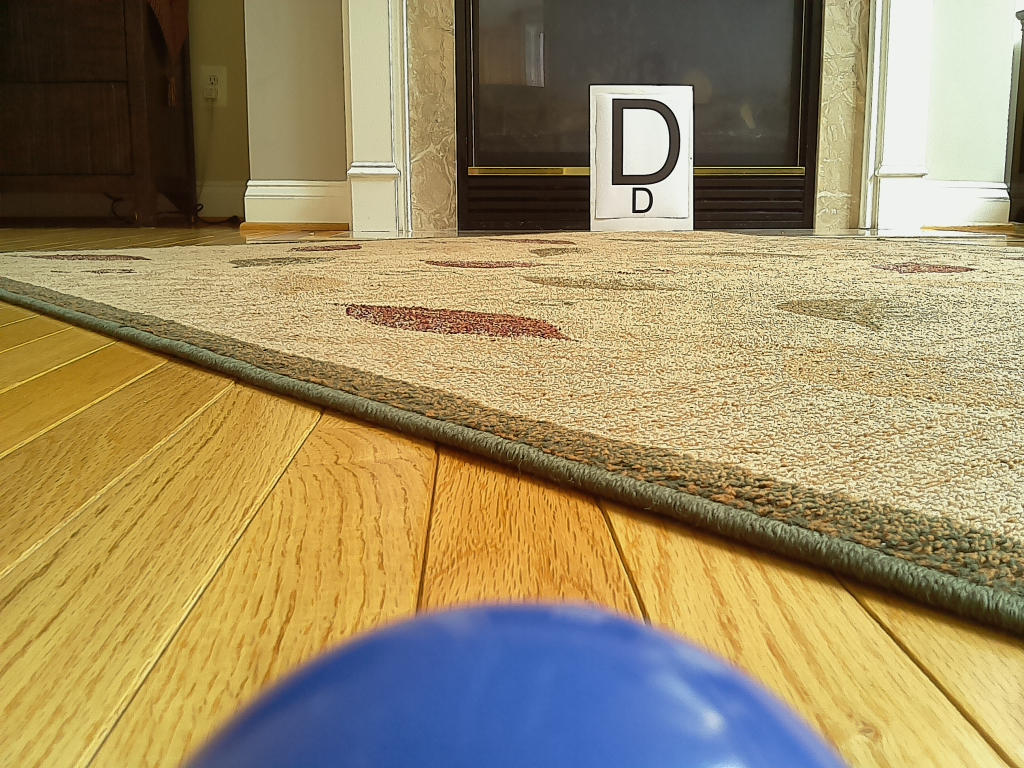letter: (614, 98, 680, 185)
